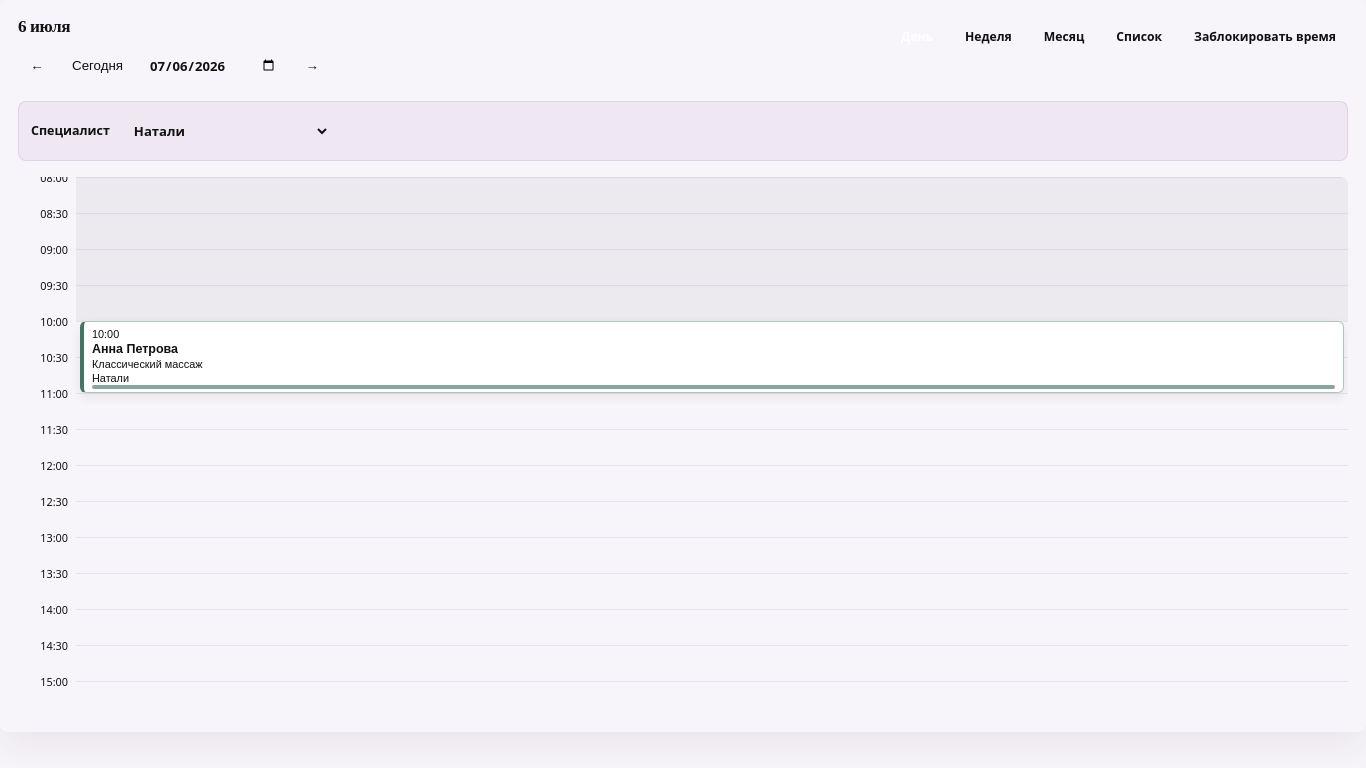
Scenario: CalendarWorkspace › opens an administrator on their linked specialist calendar and still allows all calendars
(page scrolled)
Expected: the text "Анна Петрова" is shown, [92,342,178,356]
Expected: the text "Мария Иванова" is not shown
Select "Все специалисты" in the dropdown named "Показать календарь специалиста": (225, 131) [120,112,330,150]
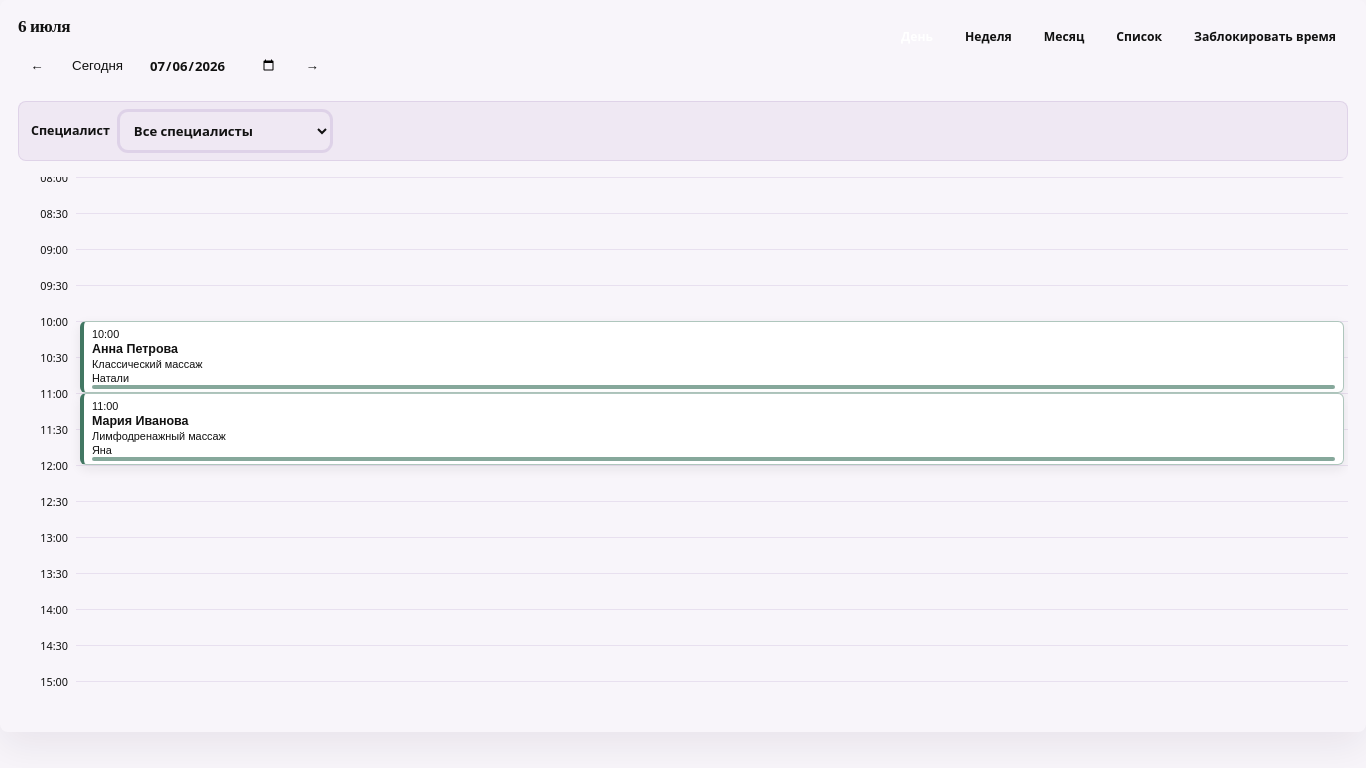
Expected: the text "Анна Петрова" is shown, [92,342,178,356]
Now the text "Мария Иванова" is shown, box [92,414,188,428]
